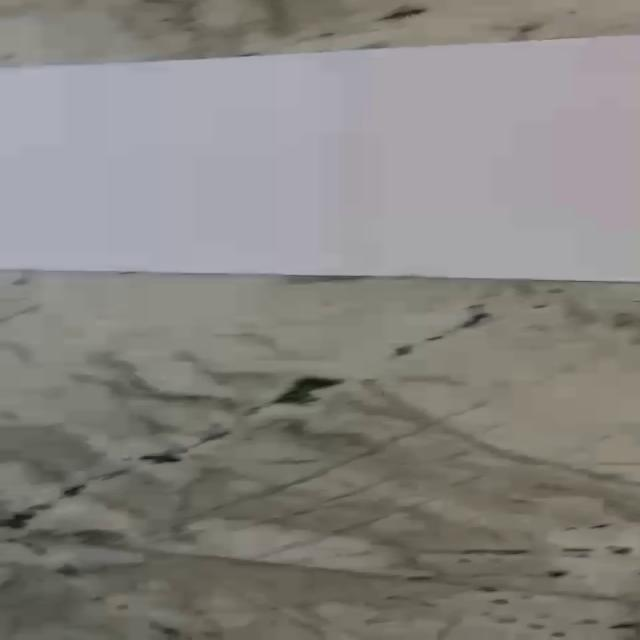road: (0, 33, 640, 282)
